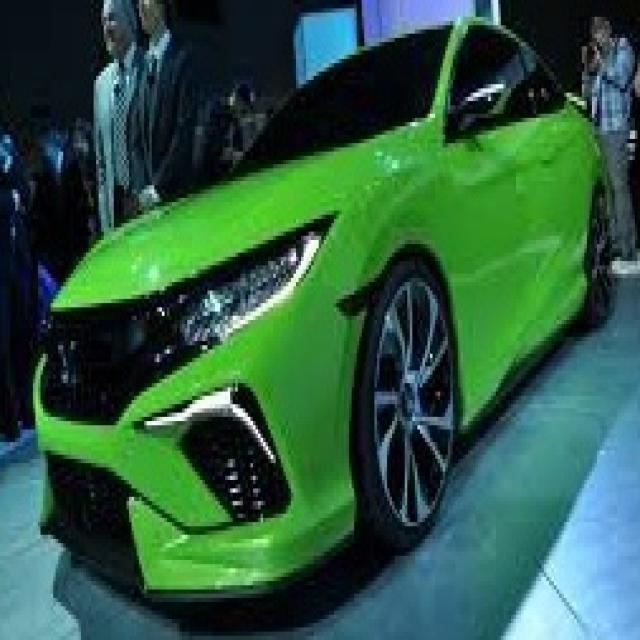green: (32, 19, 640, 615)
